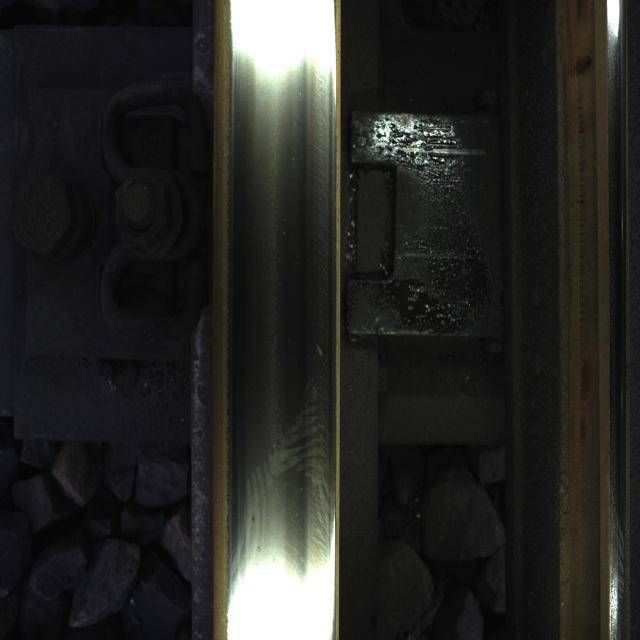break: (228, 48, 320, 602)
